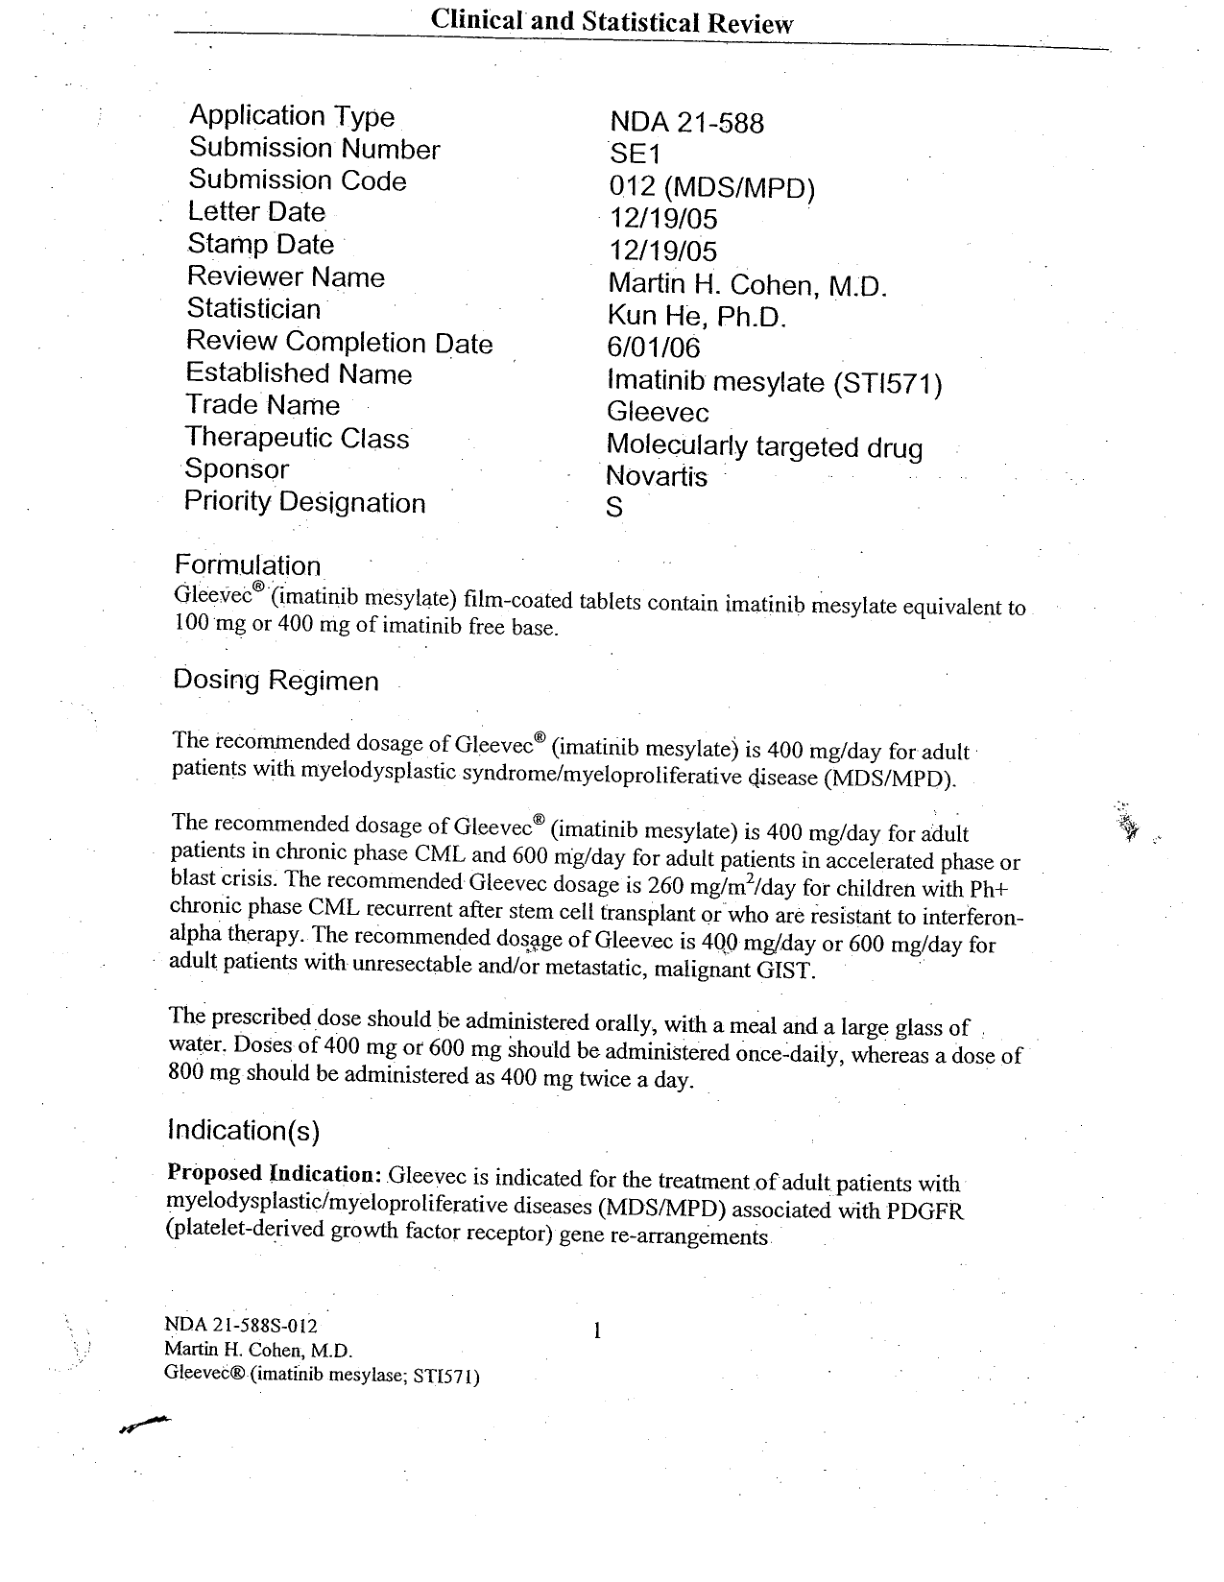nolines: (177, 92, 947, 525)
